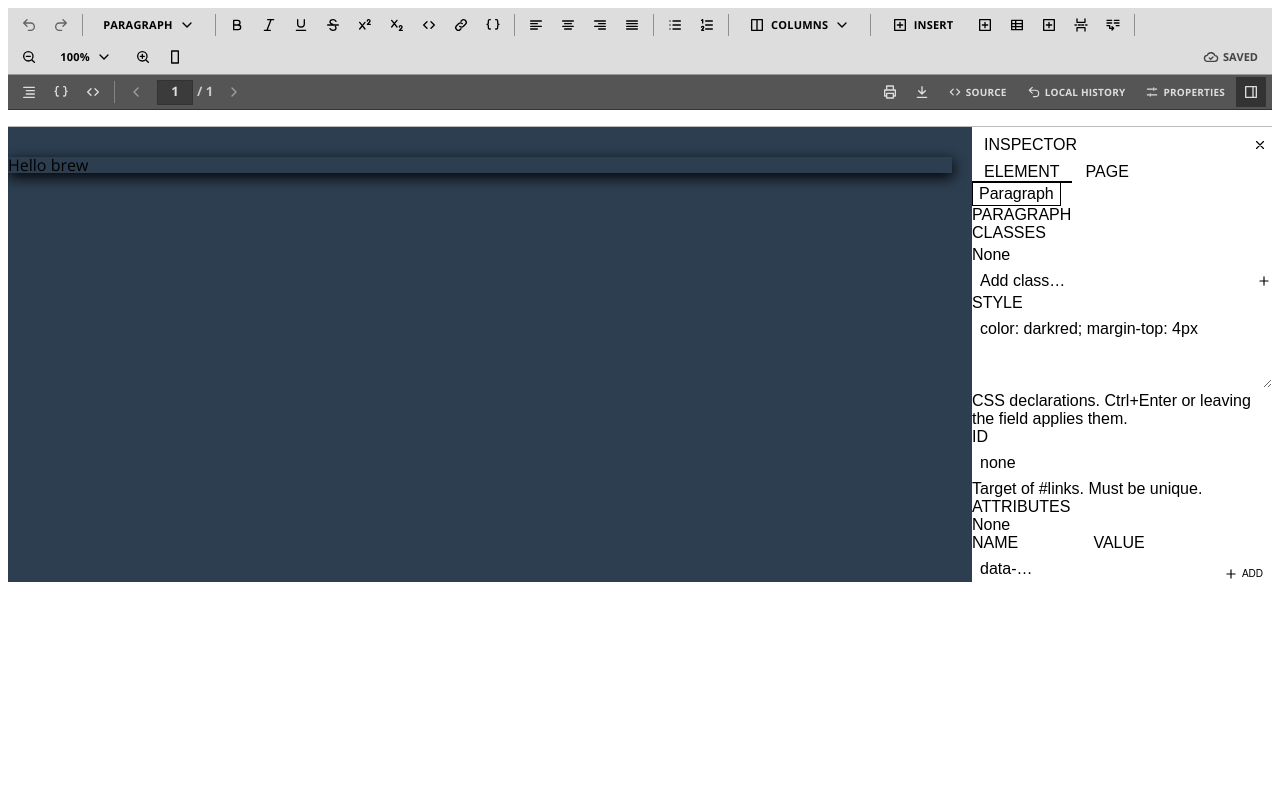
Test: EditorApp › opens the properties dialog on the brew
Click the button "Properties" at {"x": 1185, "y": 92}, box [1136, 80, 1234, 104]
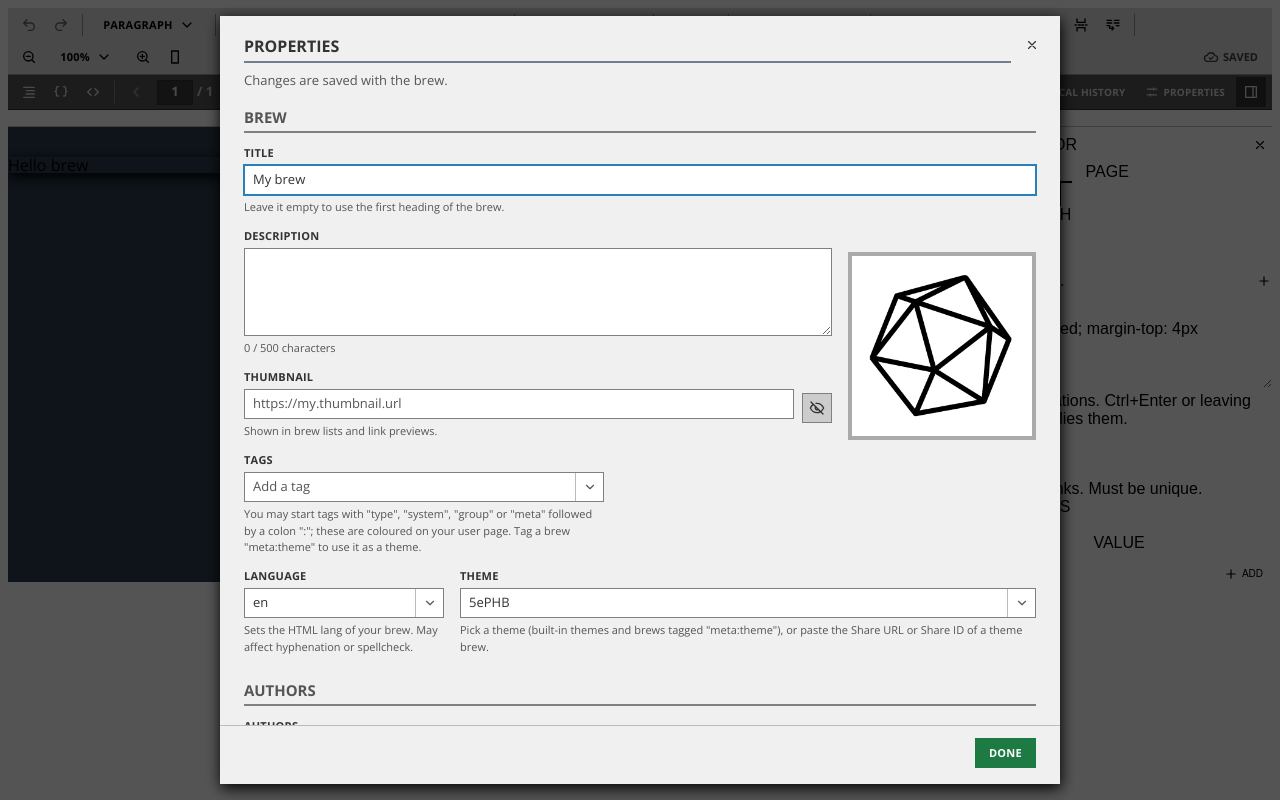
Expected: the field labelled "Title" holds "My brew", [244, 165, 1036, 195]
